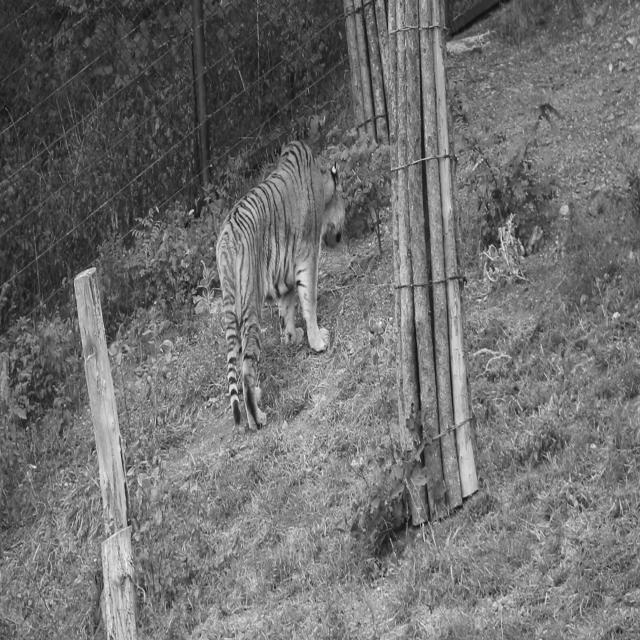Tiger: (214, 137, 346, 432)
